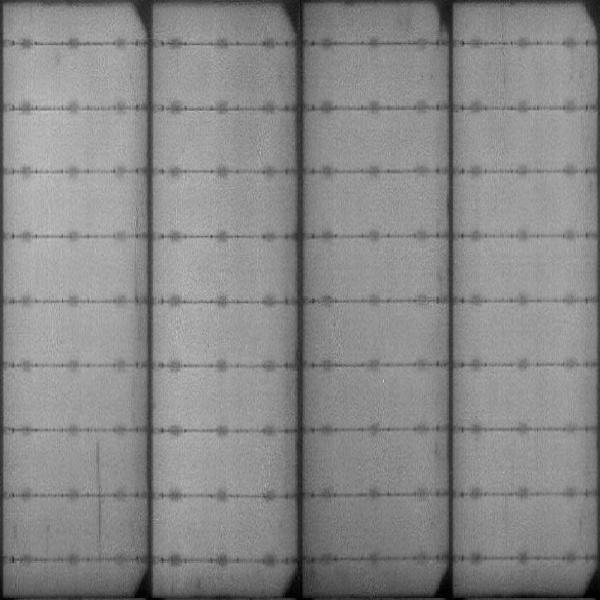scratch: (92, 498, 109, 554), (90, 438, 107, 491)
